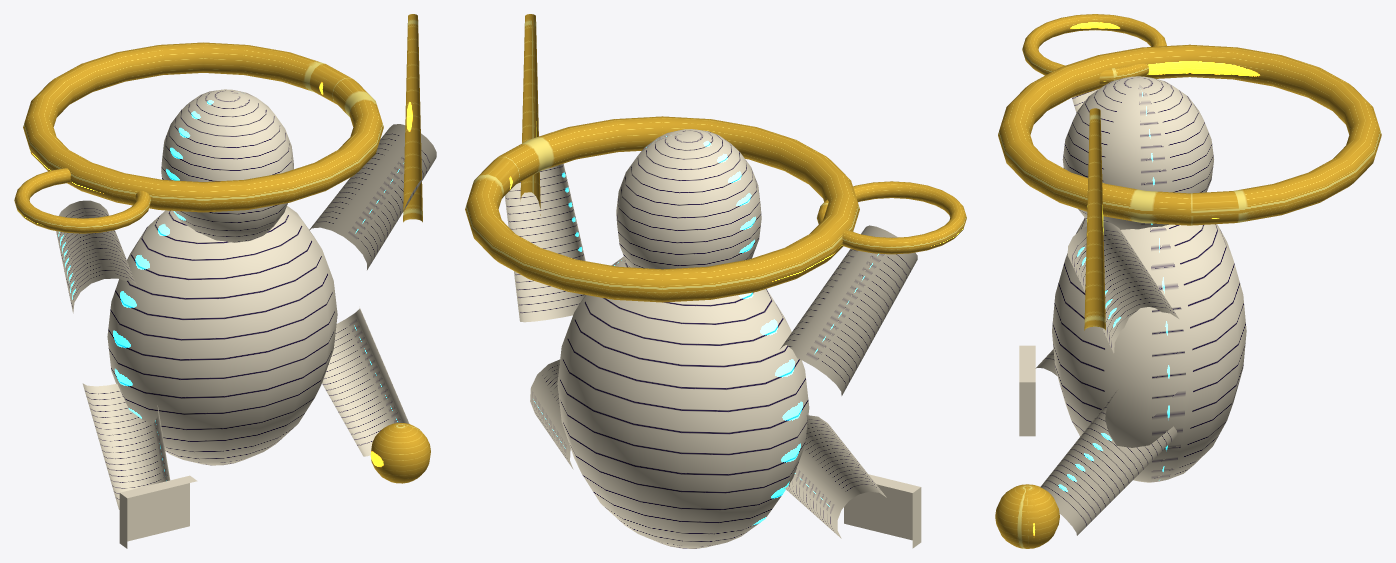
Rendered from boss_brihaspati.glb.
3 renders of one model, left to right at view 1: azimuth 30°, elevation 25°; view 2: azimuth 150°, elevation 25°; view 3: azimuth 270°, elevation 25°, orthographic. The views are drawn at different scales.
Parts seen in each view (by area): view 1: Node_BossBrihaspati; view 2: Node_BossBrihaspati; view 3: Node_BossBrihaspati.
Part boxes in pixels (x1,y1,x2,y2): Node_BossBrihaspati: (14,14,436,548); Node_BossBrihaspati: (465,14,966,548); Node_BossBrihaspati: (995,14,1381,548).
Size of the model in its own units: 1.87 by 1.87 by 1.43.
Materials: 2 (2 with a texture image).
